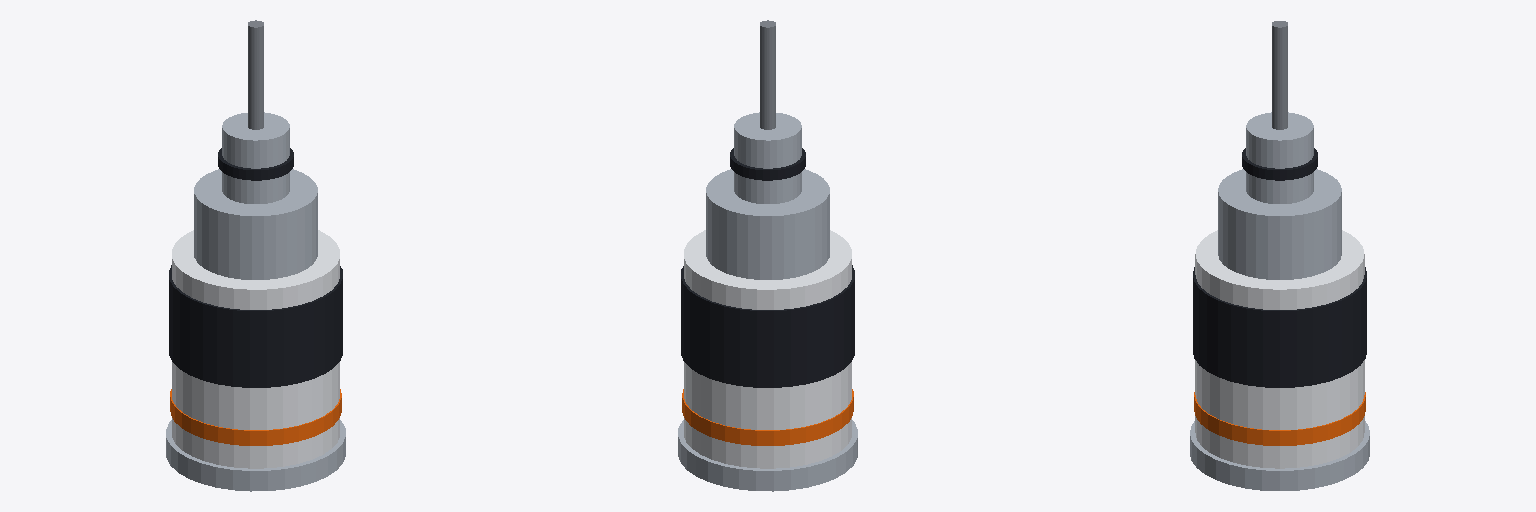
robot.urdf — tool_drill:
<?xml version="1.0"?>
<!-- Outil : perceuse (broche motorisee).
     Convention d'interface (commune a tous les outils) :
       - tool_mount : lien RACINE, repere de montage, superpose a la bride (flange) du robot.
       - tcp        : Tool Center Point, pointe du foret. Axe z = axe de percage (direction d'avance).
     Joint actionne : drill_spindle_joint (continu, rotation de la broche autour de z). -->
<robot name="tool_drill">

  <link name="tool_mount">
    <visual>
      <geometry><cylinder length="0.008" radius="0.032"/></geometry>
      <origin xyz="0 0 0.004" rpy="0 0 0"/>
      <material name="silver"><color rgba="0.72 0.75 0.79 1"/></material>
    </visual>
    <visual>
      <geometry><cylinder length="0.07" radius="0.03"/></geometry>
      <origin xyz="0 0 0.043" rpy="0 0 0"/>
      <material name="white"><color rgba="0.93 0.94 0.96 1"/></material>
    </visual>
    <visual>
      <geometry><cylinder length="0.006" radius="0.0305"/></geometry>
      <origin xyz="0 0 0.02" rpy="0 0 0"/>
      <material name="orange"><color rgba="0.96 0.46 0.1 1"/></material>
    </visual>
    <visual>
      <geometry><cylinder length="0.03" radius="0.031"/></geometry>
      <origin xyz="0 0 0.055" rpy="0 0 0"/>
      <material name="graphite"><color rgba="0.17 0.18 0.21 1"/></material>
    </visual>
    <visual>
      <geometry><cylinder length="0.025" radius="0.022"/></geometry>
      <origin xyz="0 0 0.0905" rpy="0 0 0"/>
      <material name="silver"><color rgba="0.72 0.75 0.79 1"/></material>
    </visual>
    <collision>
      <geometry><cylinder length="0.095" radius="0.032"/></geometry>
      <origin xyz="0 0 0.0475" rpy="0 0 0"/>
    </collision>
    <inertial>
      <mass value="0.75"/>
      <origin xyz="0 0 0.045" rpy="0 0 0"/>
      <inertia ixx="0.000380" ixy="0.0" ixz="0.0" iyy="0.000380" iyz="0.0" izz="0.000270"/>
    </inertial>
  </link>

  <link name="drill_spindle">
    <visual>
      <geometry><cylinder length="0.025" radius="0.012"/></geometry>
      <origin xyz="0 0 0.0125" rpy="0 0 0"/>
      <material name="silver"><color rgba="0.72 0.75 0.79 1"/></material>
    </visual>
    <visual>
      <geometry><cylinder length="0.004" radius="0.0135"/></geometry>
      <origin xyz="0 0 0.012" rpy="0 0 0"/>
      <material name="graphite"><color rgba="0.17 0.18 0.21 1"/></material>
    </visual>
    <visual>
      <geometry><cylinder length="0.04" radius="0.003"/></geometry>
      <origin xyz="0 0 0.045" rpy="0 0 0"/>
      <material name="steel"><color rgba="0.55 0.57 0.6 1"/></material>
    </visual>
    <collision>
      <geometry><cylinder length="0.065" radius="0.012"/></geometry>
      <origin xyz="0 0 0.0325" rpy="0 0 0"/>
    </collision>
    <inertial>
      <mass value="0.06"/>
      <origin xyz="0 0 0.03" rpy="0 0 0"/>
      <inertia ixx="0.000023" ixy="0.0" ixz="0.0" iyy="0.000023" iyz="0.0" izz="0.000004"/>
    </inertial>
  </link>

  <joint name="drill_spindle_joint" type="continuous">
    <parent link="tool_mount"/>
    <child link="drill_spindle"/>
    <origin xyz="0 0 0.103" rpy="0 0 0"/>
    <axis xyz="0 0 1"/>
    <limit effort="2.0" velocity="100.0"/>
    <dynamics damping="0.01" friction="0.0"/>
  </joint>

  <!-- Pointe du foret : 0.103 (broche) + 0.065 = 0.168 m depuis tool_mount -->
  <link name="tcp"/>
  <joint name="tool_mount_to_tcp" type="fixed">
    <parent link="tool_mount"/>
    <child link="tcp"/>
    <origin xyz="0 0 0.168" rpy="0 0 0"/>
  </joint>

</robot>

--- Render facts (derived) ---
3 views of the same robot in one strip: view 1: azimuth 30°, elevation 25°; view 2: azimuth 150°, elevation 25°; view 3: azimuth 270°, elevation 25° (orthographic).
Robot: tool_drill — 3 links, 2 joints (1 continuous, 1 fixed); root link tool_mount; default pose: all joints at 0.
Visible links, largest first — view 1: tool_mount, drill_spindle; view 2: tool_mount, drill_spindle; view 3: tool_mount, drill_spindle.
Link boxes in pixels (x1,y1,x2,y2): tool_mount: (166,169,345,491); drill_spindle: (218,20,293,203); tool_mount: (678,169,857,491); drill_spindle: (730,20,805,203); tool_mount: (1190,169,1369,490); drill_spindle: (1242,21,1317,203).
Size in the robot's own frame: 0.064 by 0.064 by 0.168 metres.
Geometry: primitives only (box / cylinder / sphere), no mesh files.
